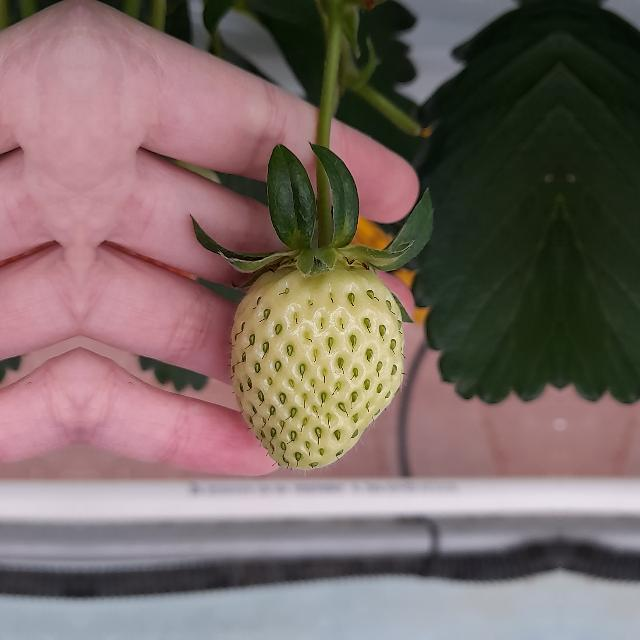Health_25: (230, 260, 404, 468)
